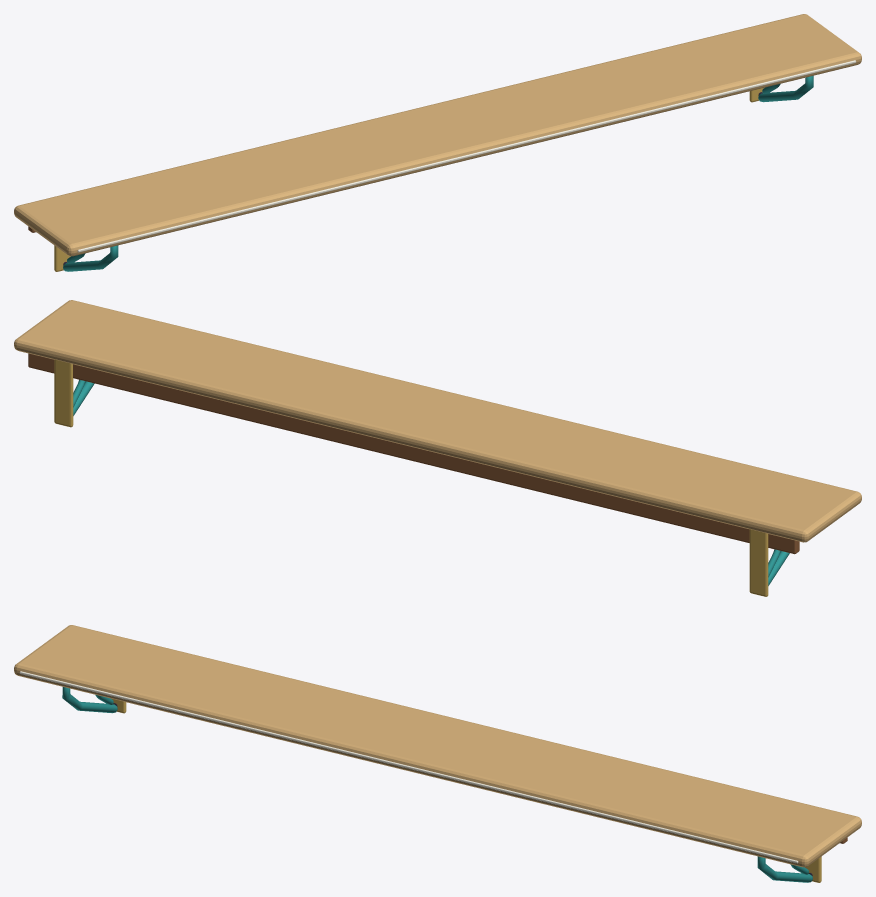
The model's file is botanical_shelf_medium.glb.
The picture shows the model from 3 angles, top to bottom: view 1: azimuth 30°, elevation 25°; view 2: azimuth 150°, elevation 25°; view 3: azimuth 330°, elevation 25°; orthographic projection.
Visible parts, largest first — view 1: Warm_wood_shelf, Cream_front_inlay, Attached_bracket, Attached_bracket.001; view 2: Warm_wood_shelf, Rear_wall_cleat, Brass_wall_plate, Brass_wall_plate.001; view 3: Warm_wood_shelf, Cream_front_inlay, Attached_bracket.001, Attached_bracket.
Part boxes in pixels (box(x1,y1,x2,y2)): Warm_wood_shelf: box(14, 14, 861, 256); Cream_front_inlay: box(77, 60, 856, 252); Attached_bracket: box(63, 245, 118, 271); Attached_bracket.001: box(758, 75, 813, 102); Warm_wood_shelf: box(14, 300, 861, 542); Rear_wall_cleat: box(28, 353, 799, 554); Brass_wall_plate: box(749, 529, 768, 596); Brass_wall_plate.001: box(54, 359, 73, 427); Warm_wood_shelf: box(14, 625, 861, 867); Cream_front_inlay: box(19, 671, 798, 863); Attached_bracket.001: box(757, 856, 812, 882); Attached_bracket: box(62, 687, 117, 713).
Size of the model in its own units: 2.4 by 0.218 by 0.304.
